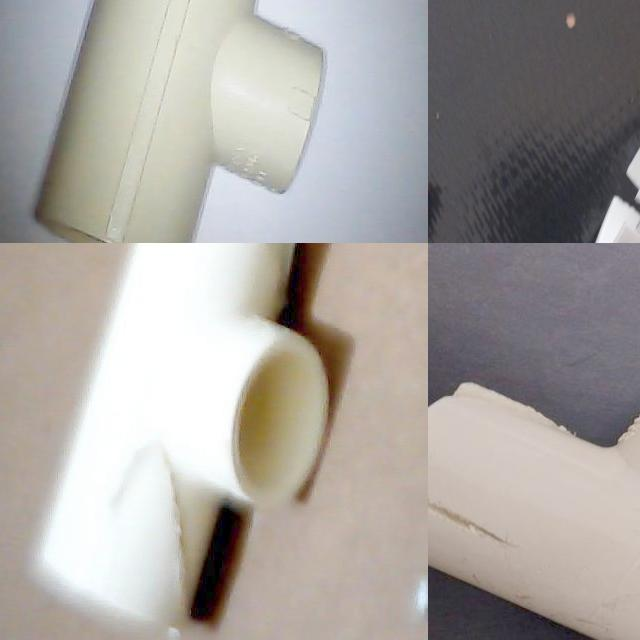Defective: (109, 439, 206, 609), (428, 455, 522, 580), (439, 383, 484, 432)
T Joint: (26, 243, 329, 635), (31, 0, 328, 243), (428, 384, 640, 640)
